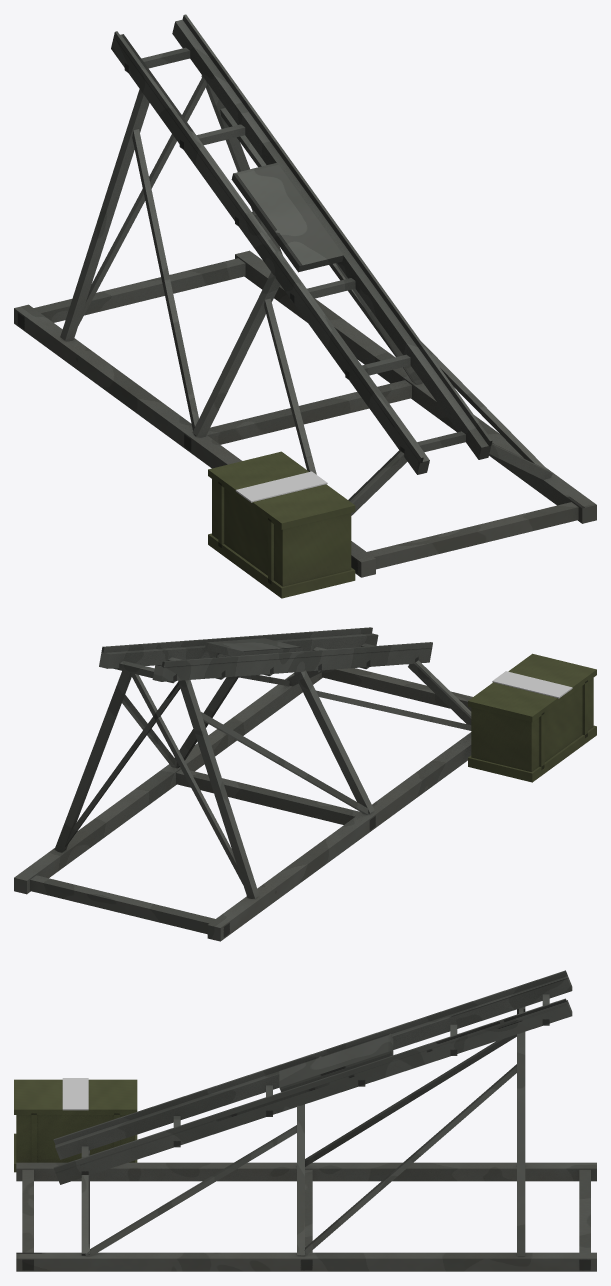
The model's file is ir_shahed_rail.glb.
The picture shows the model from 3 angles, top to bottom: view 1: azimuth 30°, elevation 25°; view 2: azimuth 150°, elevation 25°; view 3: azimuth 270°, elevation 25°; orthographic projection. The views are drawn at different scales.
Parts seen in each view (by area): view 1: Body; view 2: Body; view 3: Body.
Boxes of the visible parts, x1,y1,x2,y2 form: Body: (14, 14, 596, 598); Body: (14, 627, 596, 941); Body: (14, 970, 596, 1271).
Size of the model in its own units: 2.59 by 2.22 by 4.92.
Materials: 2 (1 with a texture image).
